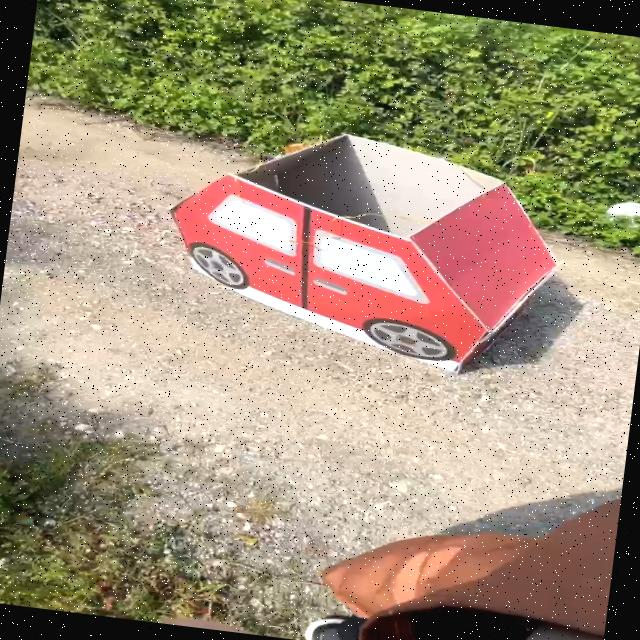red_car: (124, 92, 594, 403)
